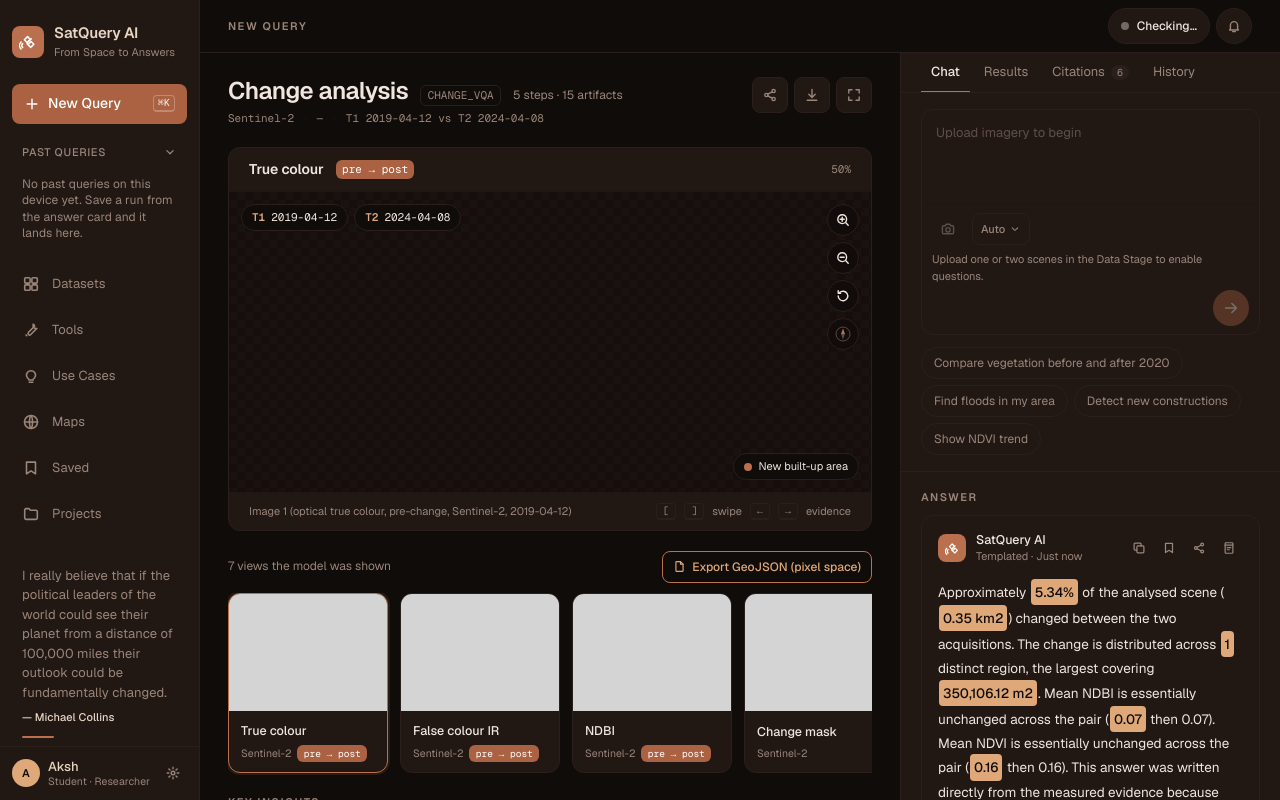
Test: citation → KPI → viewer › switches the viewer to the evidence that step produced
Click the button "0.07" at (1128, 719), box [1110, 706, 1146, 732]
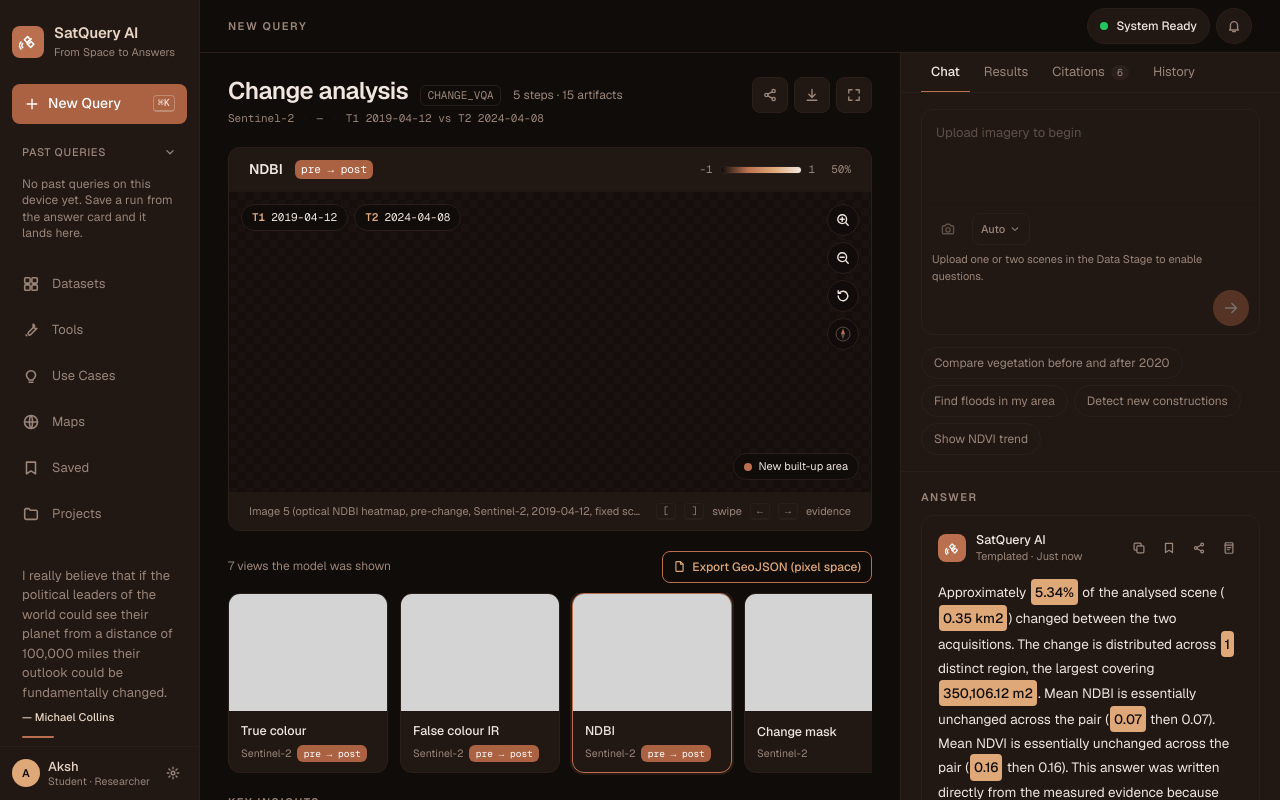
Now the heading "NDBI" is shown, box [249, 160, 283, 179]
